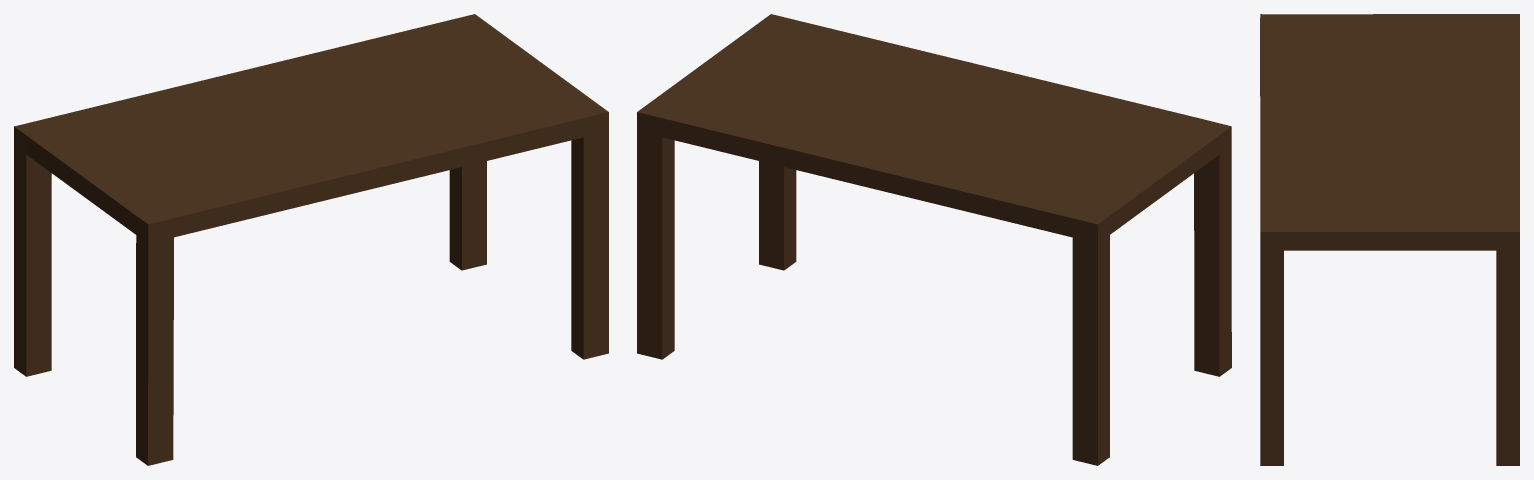
Rendered from Table.fbx.
3 views of the same model, side by side, from view 1: azimuth 30°, elevation 25°; view 2: azimuth 150°, elevation 25°; view 3: azimuth 270°, elevation 25° (orthographic). The views are drawn at different scales.
Parts seen in each view (by area): view 1: Cube; view 2: Cube; view 3: Cube.
Part boxes in pixels (bbox=[...]): Cube: bbox=[14, 14, 608, 465]; Cube: bbox=[637, 14, 1231, 465]; Cube: bbox=[1260, 14, 1519, 465].
Bounding box in the file's own units: 785 × 393 × 395.
